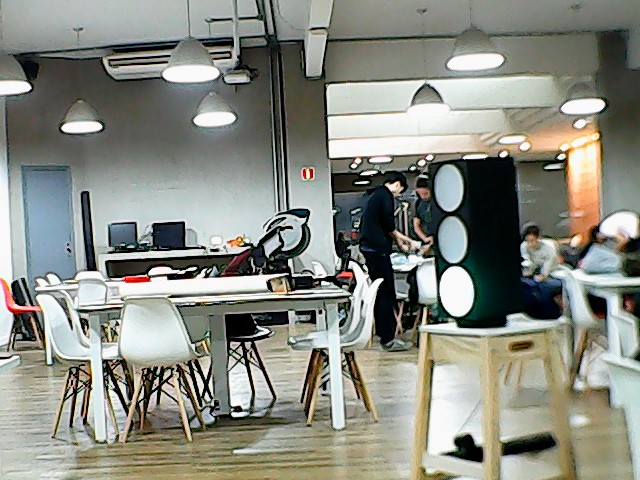verde: (417, 155, 524, 317)
